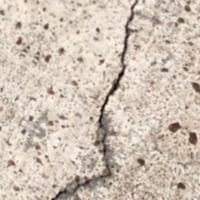crack: (52, 0, 145, 199)
